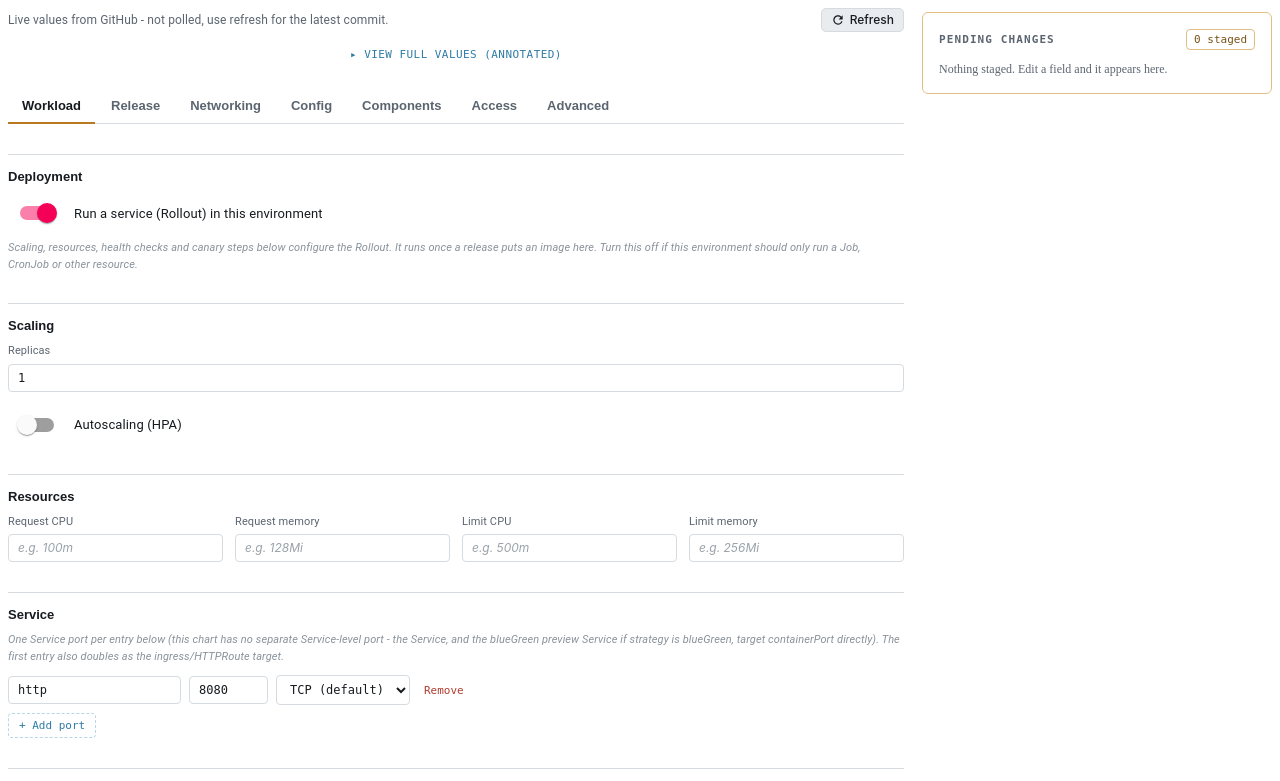
values form: components › blocks the pull request while a component is incomplete, naming what it needs
Click the tab "Components": (402, 107) [348,89,456,124]
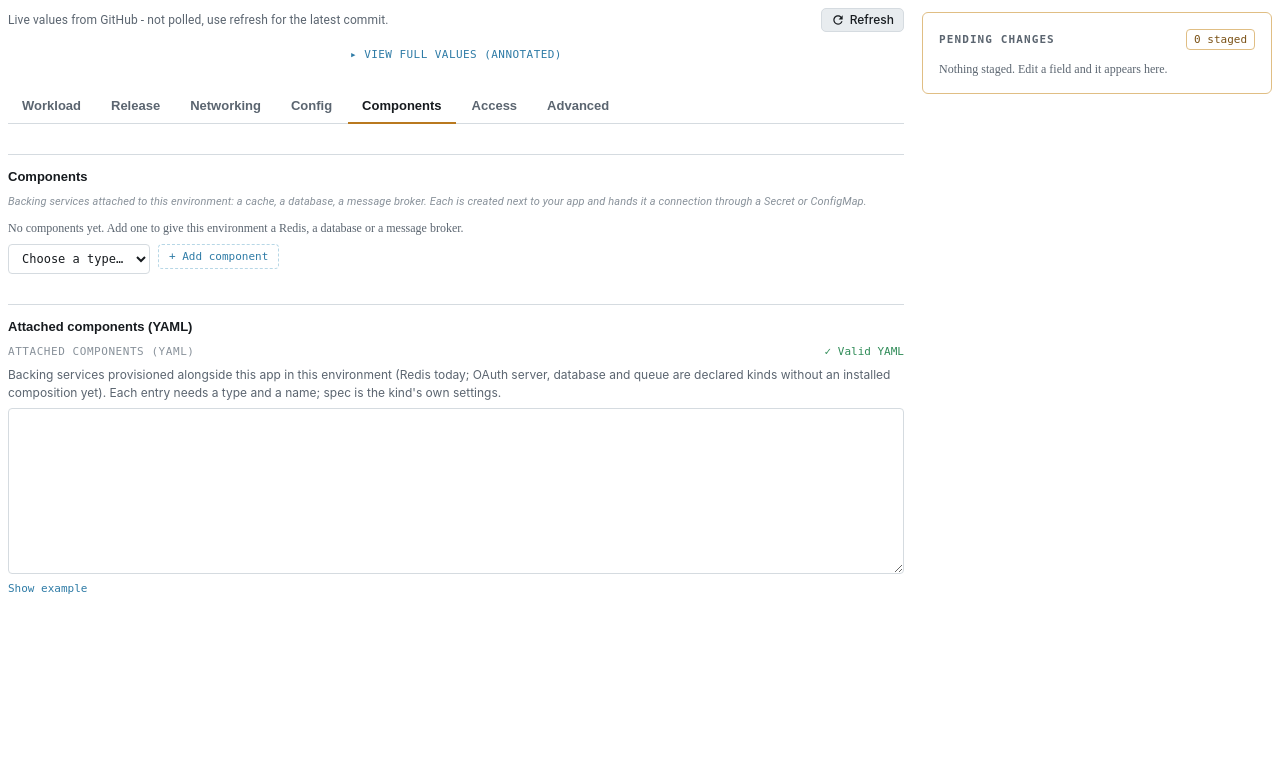
Select "RabbitMQ" in the dropdown named "Component type to add": (79, 259) [8,244,150,274]
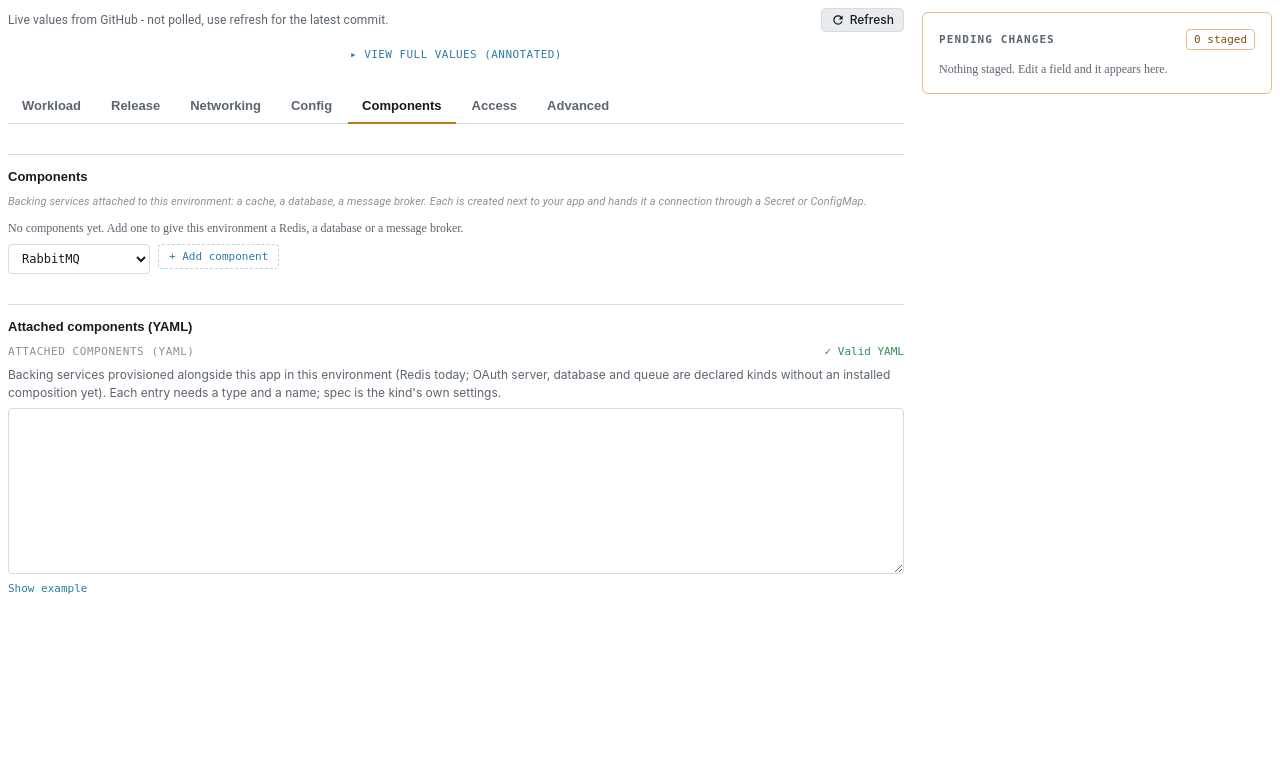
Click the button "+ Add component": (219, 256) [158,244,279,269]
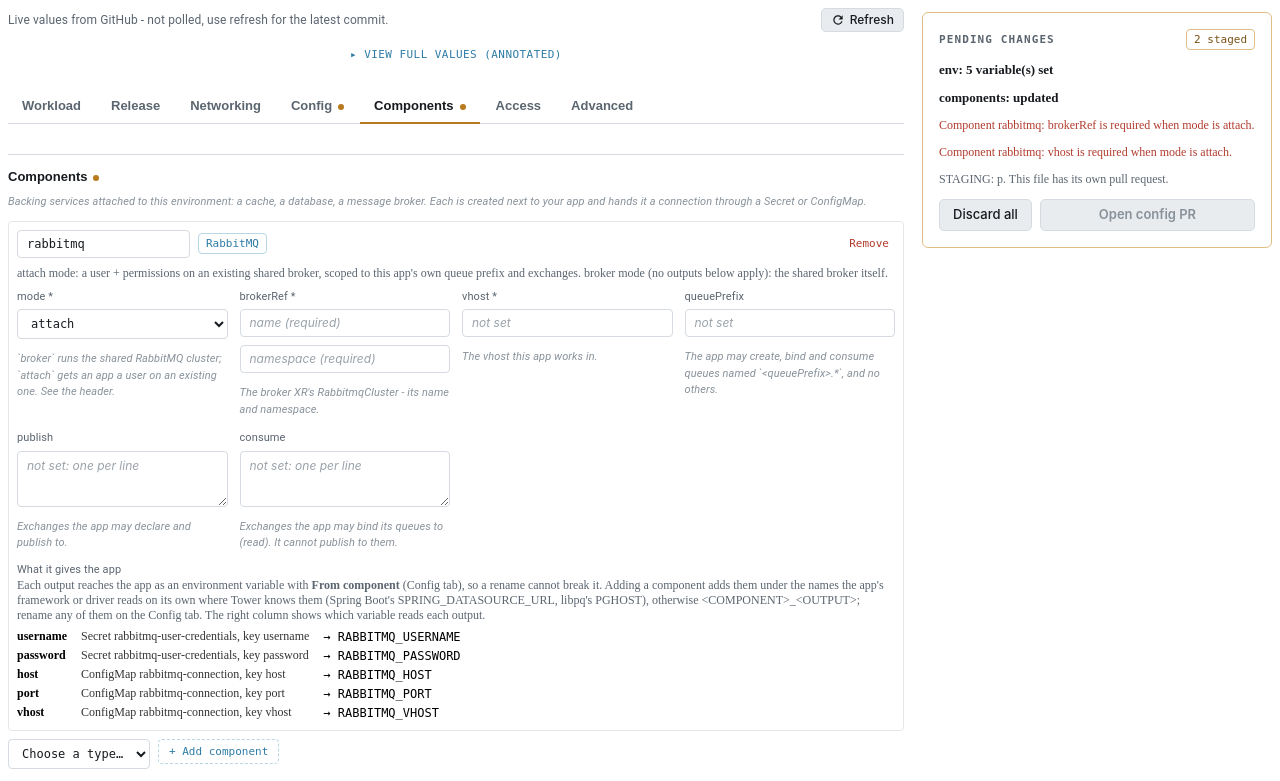
Check: the text "Component rabbitmq: brokerRef is required when mode is attach." is shown, box [939,118,1255,133]
Check: the text "Component rabbitmq: vhost is required when mode is attach." is shown, box [939,145,1255,160]
Check: the button "Open config PR" is disabled, box [1040,199,1255,231]
In the field named "Component 1 vhost": (567, 323) [462,309,672,337], type "flights"
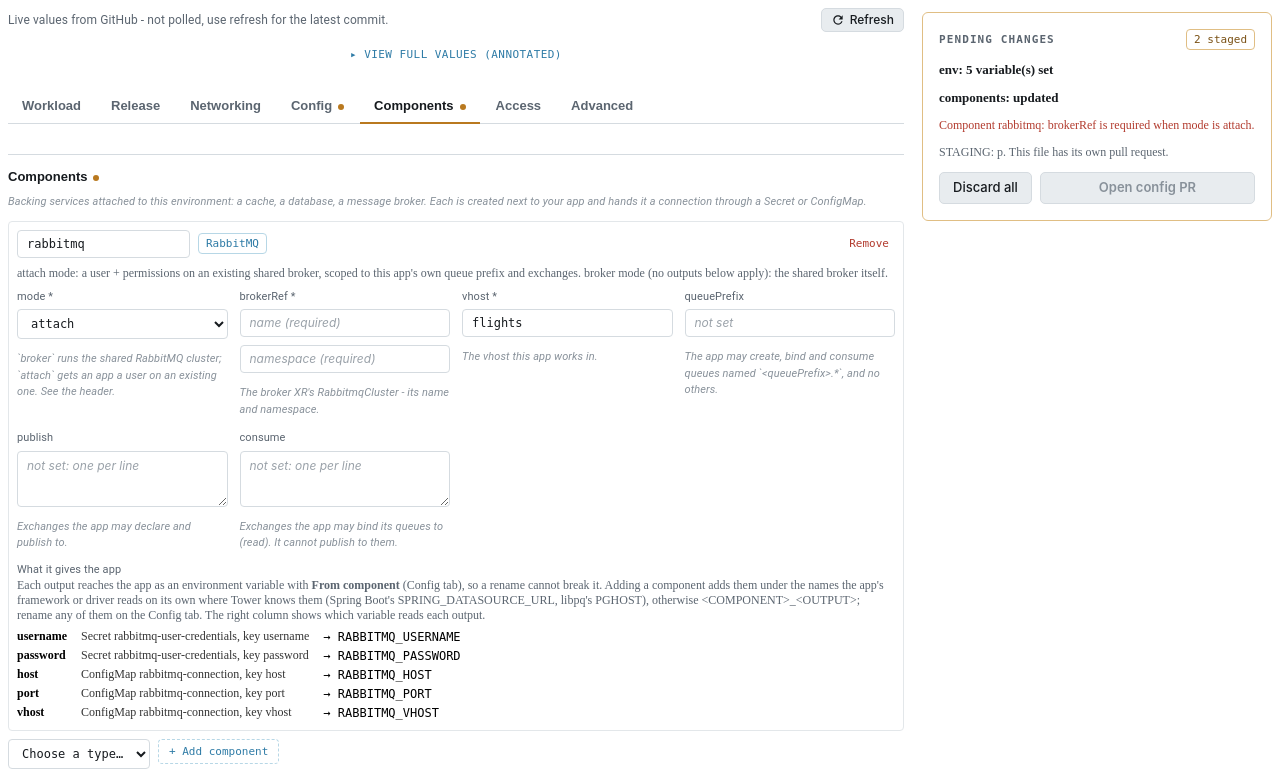
In the field named "Component 1 brokerRef name": (345, 323) [240,309,450,337], type "b"
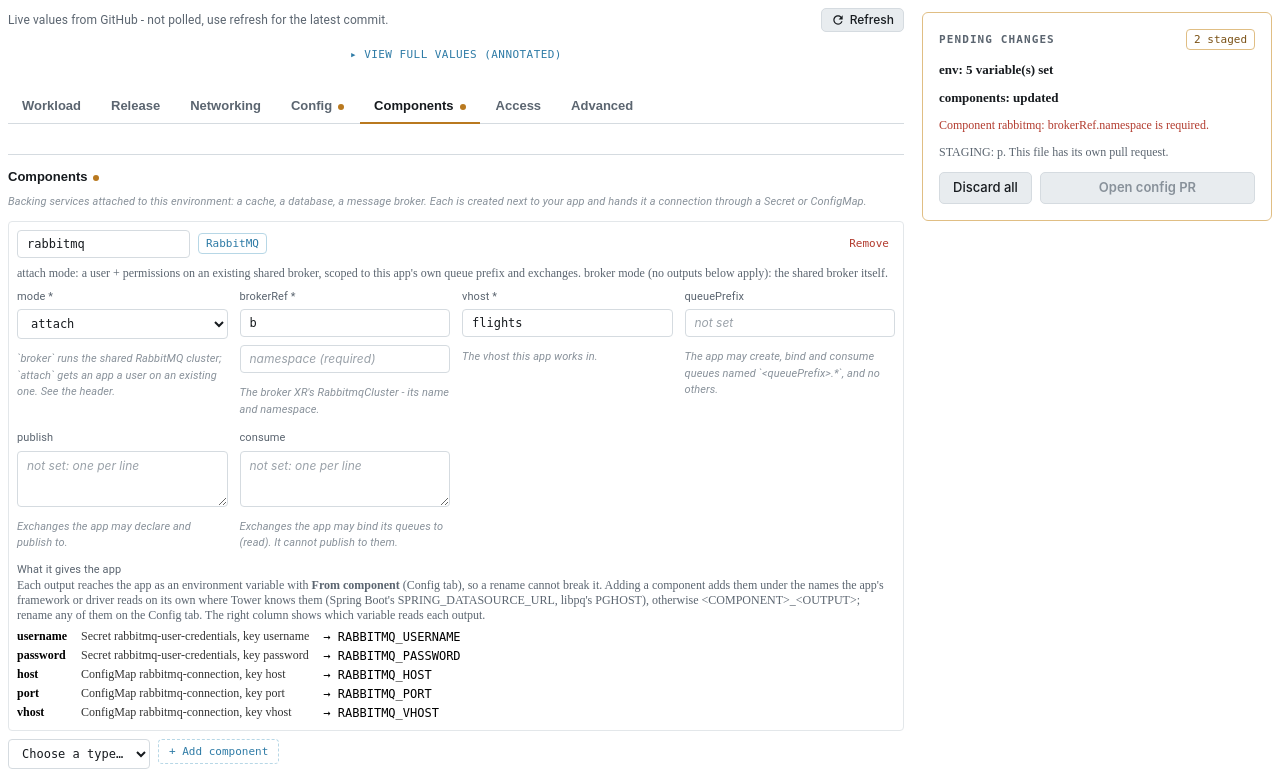
In the field named "Component 1 brokerRef namespace": (345, 359) [240,345,450,373], type "n"
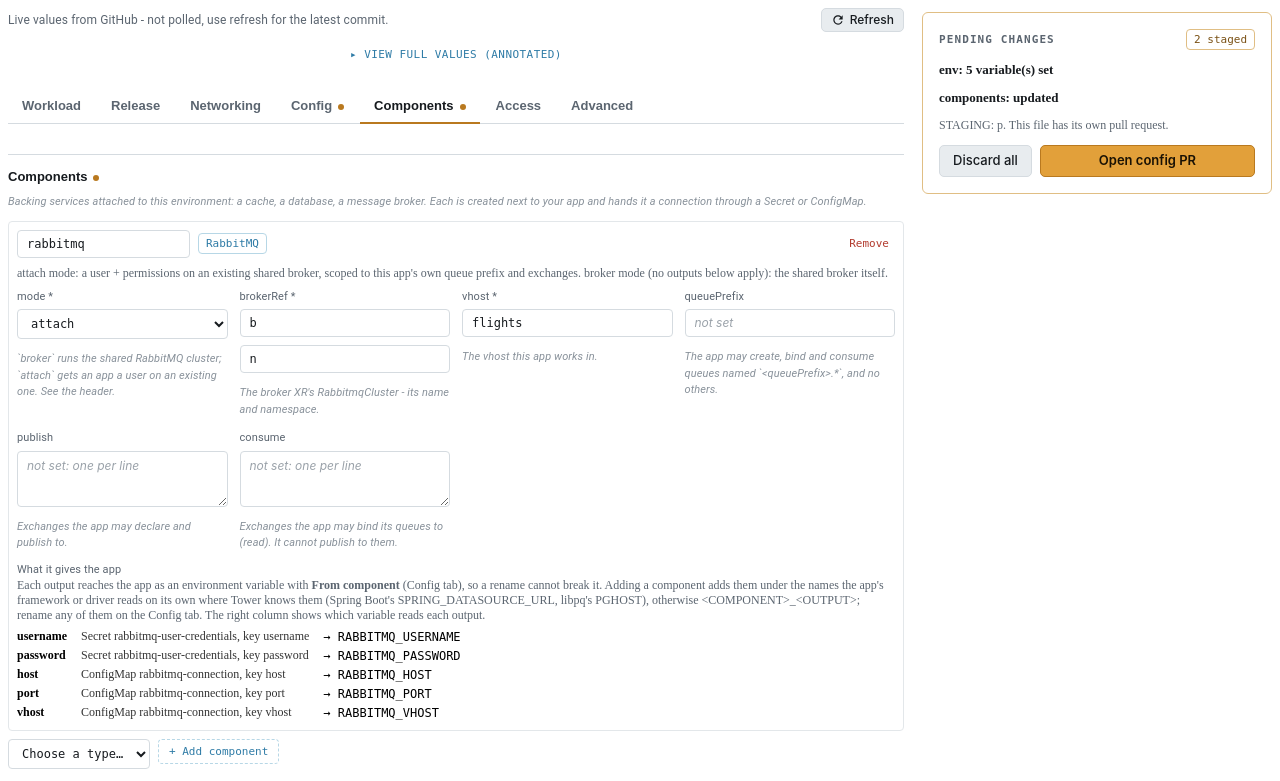
Check: the button "Open config PR" is enabled, box [1040,145,1255,177]
